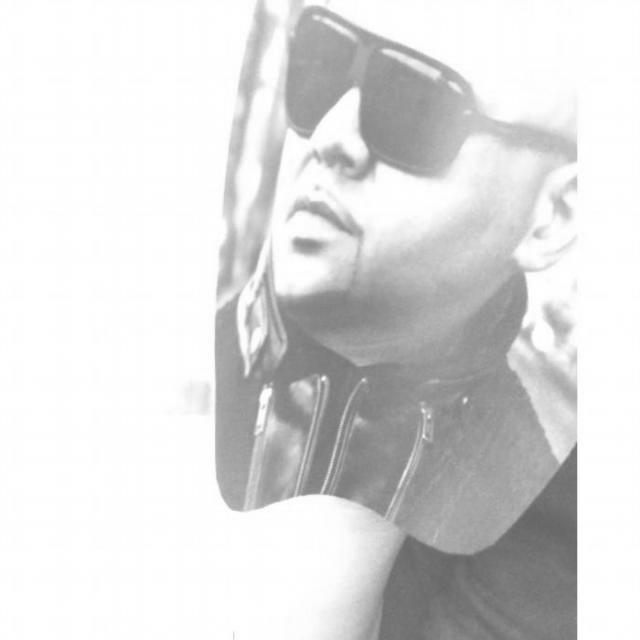fake: (142, 0, 576, 558)
